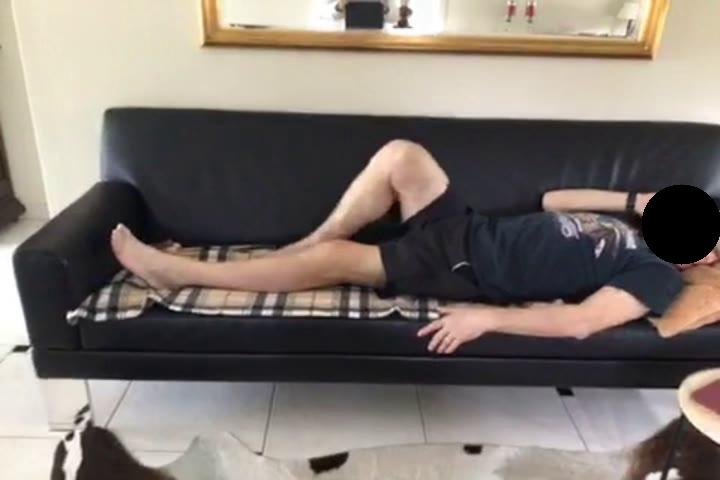lower_body: (112, 137, 484, 303)
